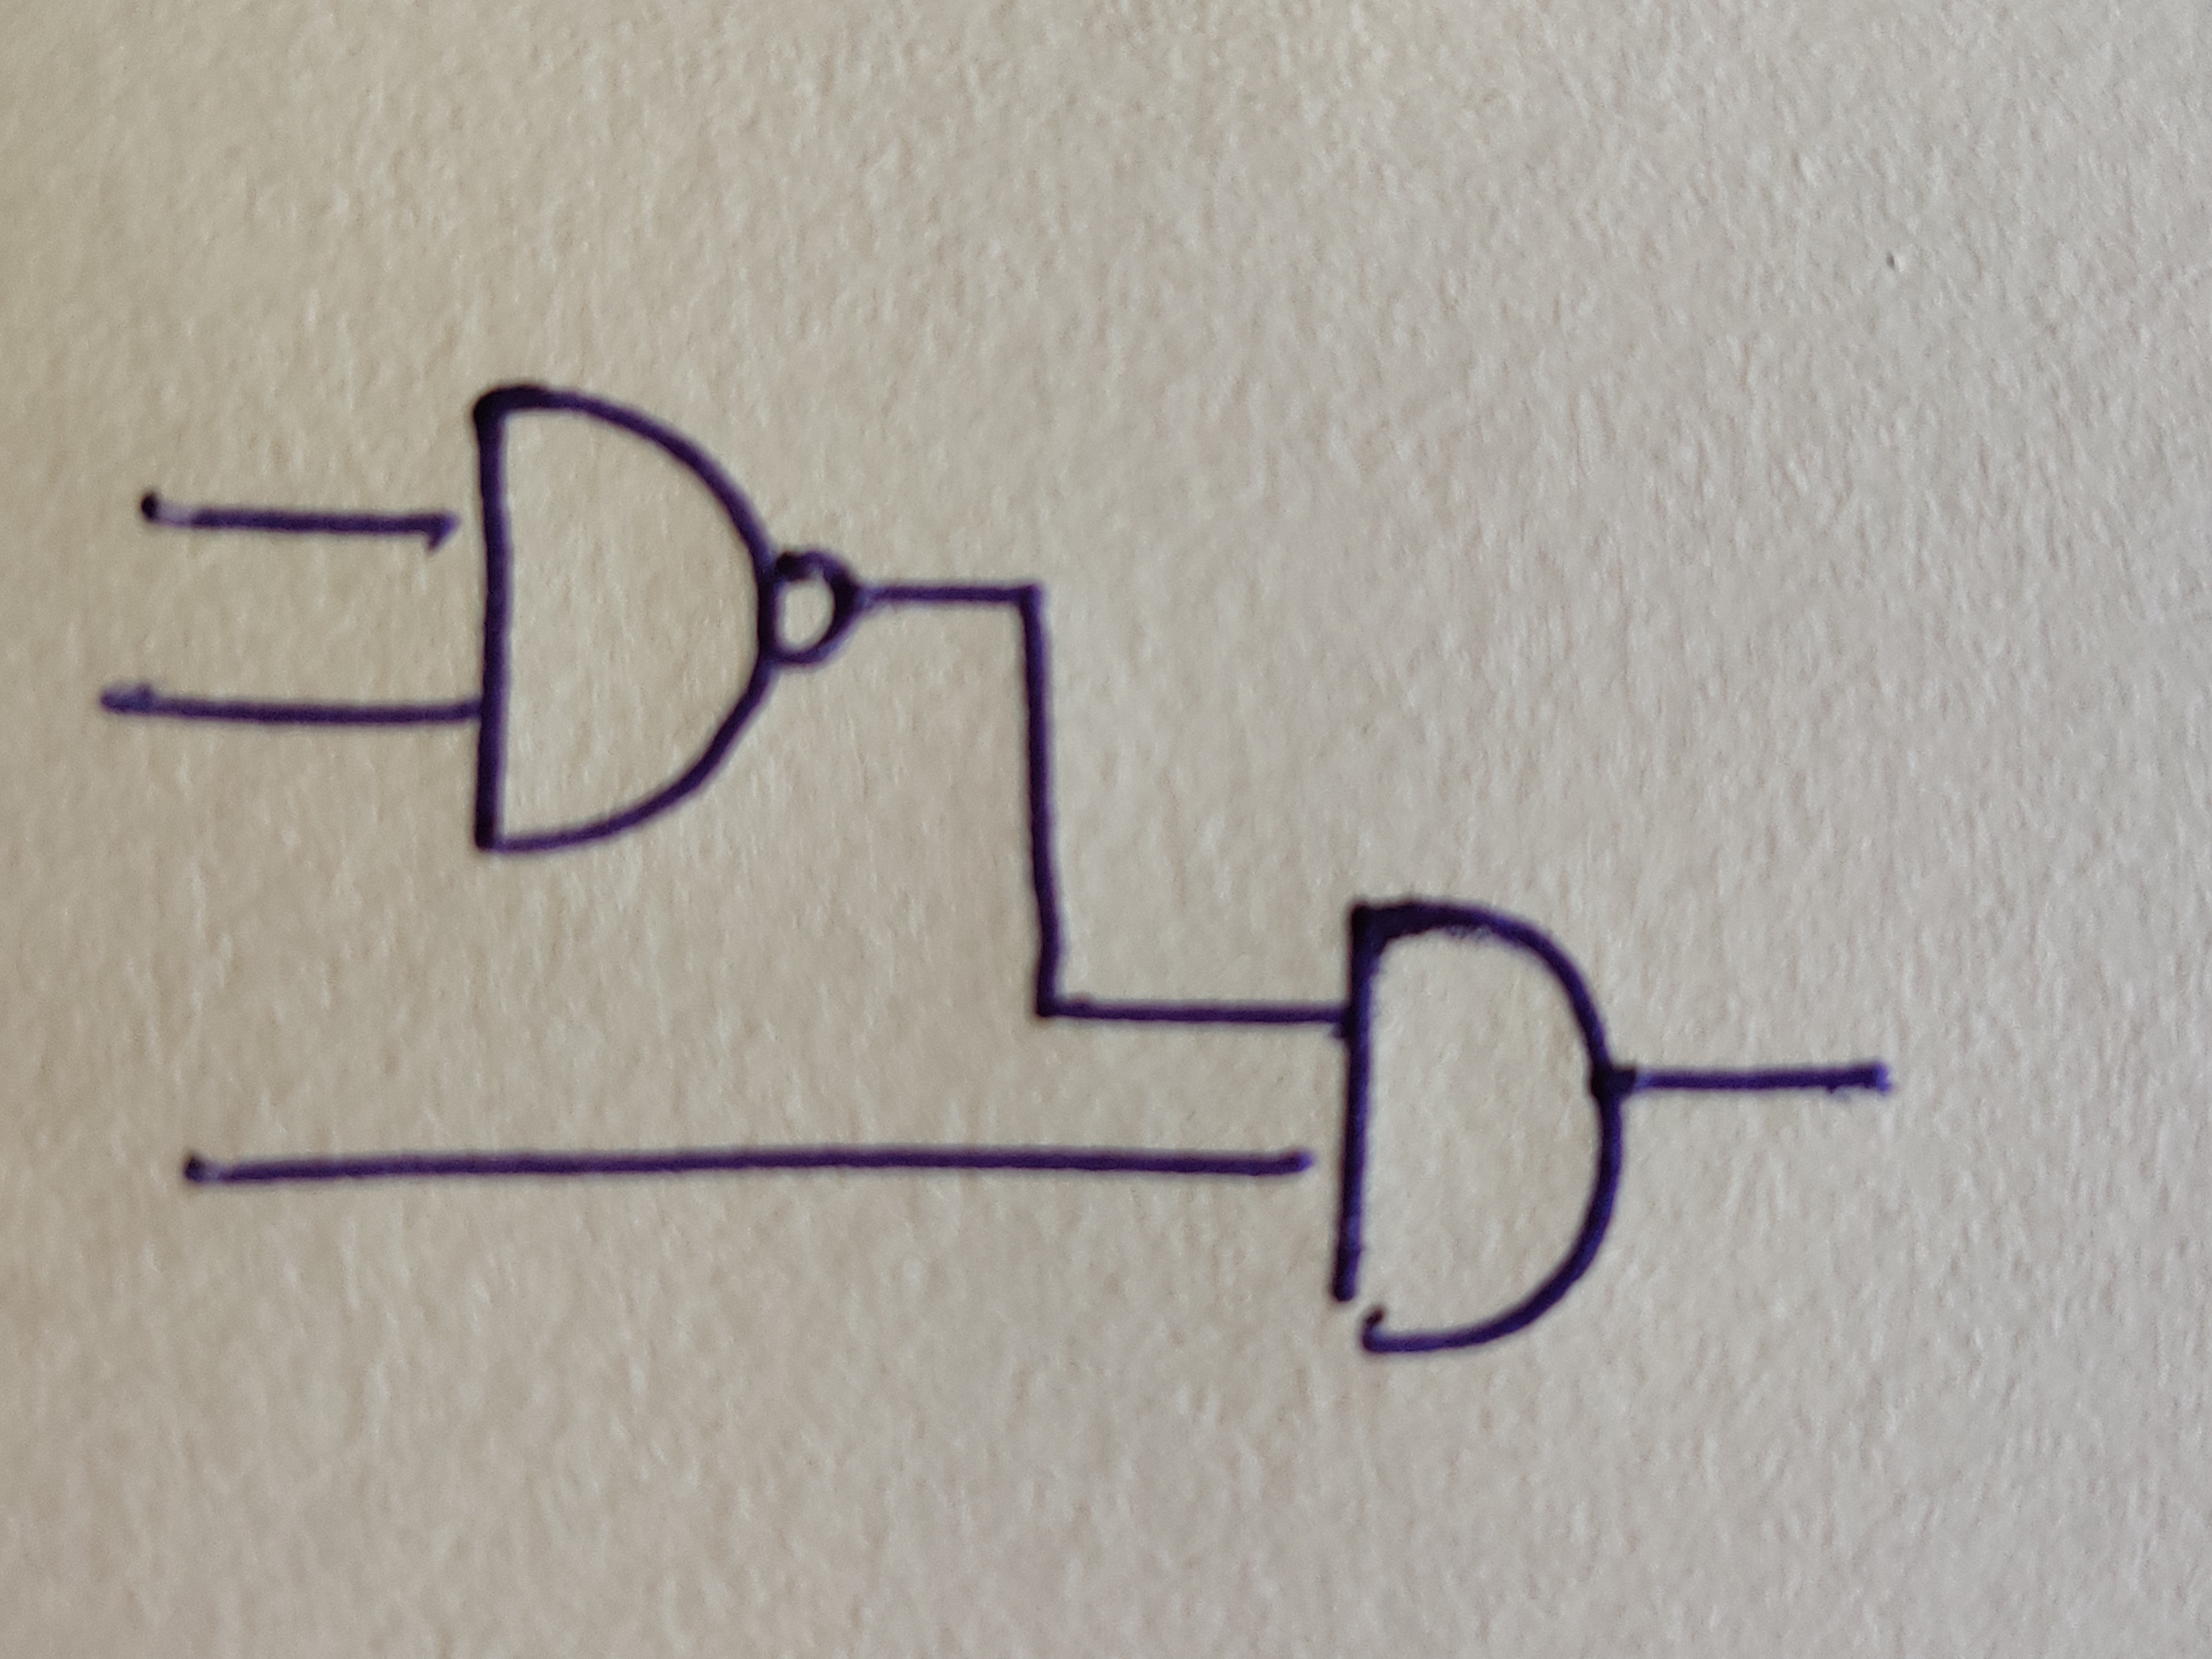and: (474, 385, 779, 856), (1329, 903, 1623, 1352)
not: (768, 551, 859, 667)
